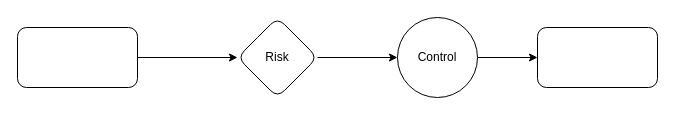
Image size: 675x115. Some labels were removed from this diagram. The shapes that lost their labels are listed below. From the top down, each one's centre as x and y in pixels, then its label:
(x=77, y=57): Regulation
(x=597, y=57): Activity
